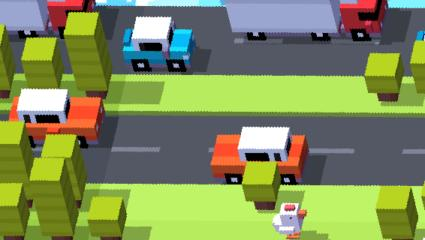hen: (273, 202, 308, 240)
obstacle: (224, 0, 389, 43), (9, 88, 106, 148), (210, 127, 310, 182), (64, 12, 113, 99), (124, 14, 195, 73), (30, 158, 80, 240), (0, 0, 98, 36), (40, 134, 87, 205), (377, 187, 419, 240), (22, 37, 64, 87), (364, 53, 404, 102), (241, 162, 281, 211), (0, 120, 31, 183), (87, 195, 127, 240), (0, 183, 29, 240), (0, 25, 14, 96), (410, 30, 425, 93)
